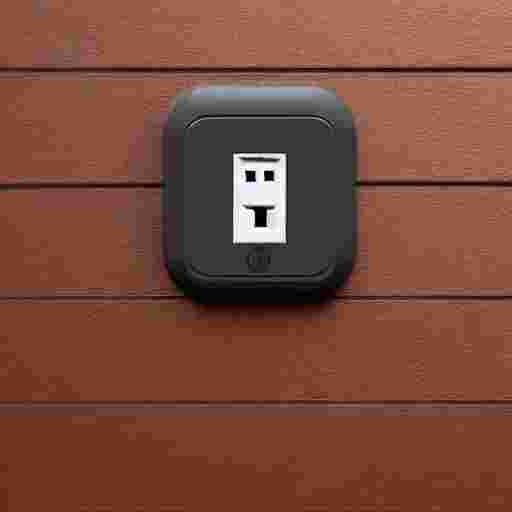power outlet: (163, 81, 354, 302)
